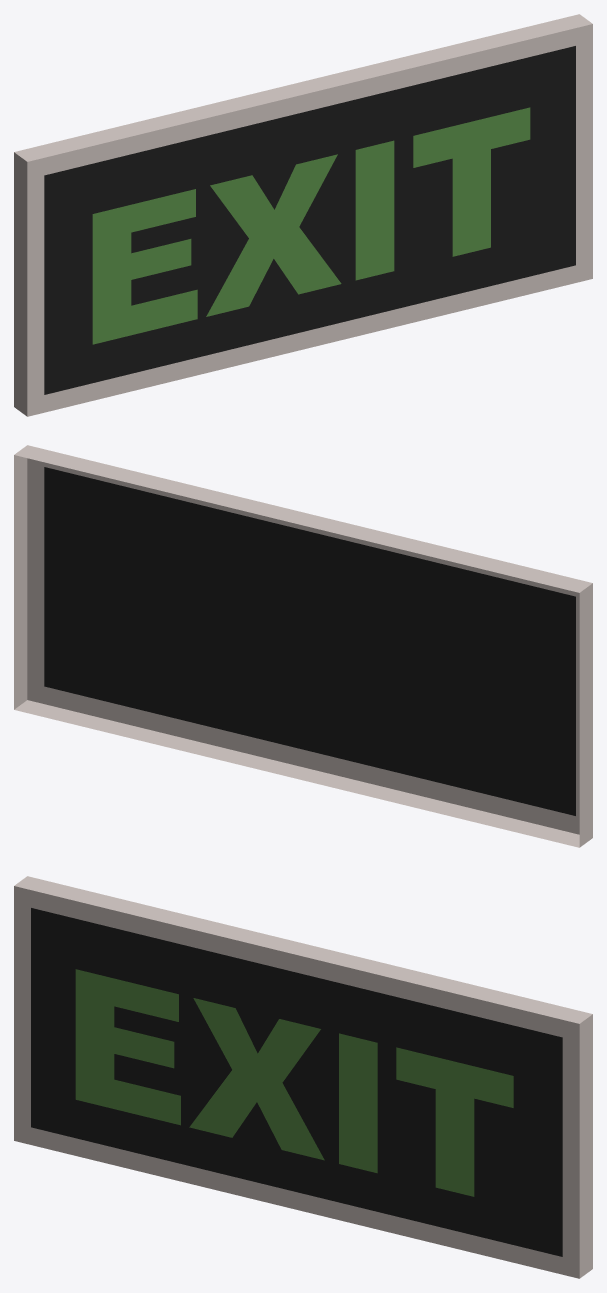
The model's file is EXIT.fbx.
3 renders of one model, top to bottom at view 1: azimuth 30°, elevation 25°; view 2: azimuth 150°, elevation 25°; view 3: azimuth 330°, elevation 25°, orthographic.
Visible parts, largest first — view 1: Exit; view 2: Exit; view 3: Exit.
Boxes of the visible parts, <box> form: Exit: <box>14,14,592,416</box>; Exit: <box>14,445,592,847</box>; Exit: <box>14,876,592,1278</box>.
Size of the model in its own units: 76.55 by 32.97 by 3.54.
